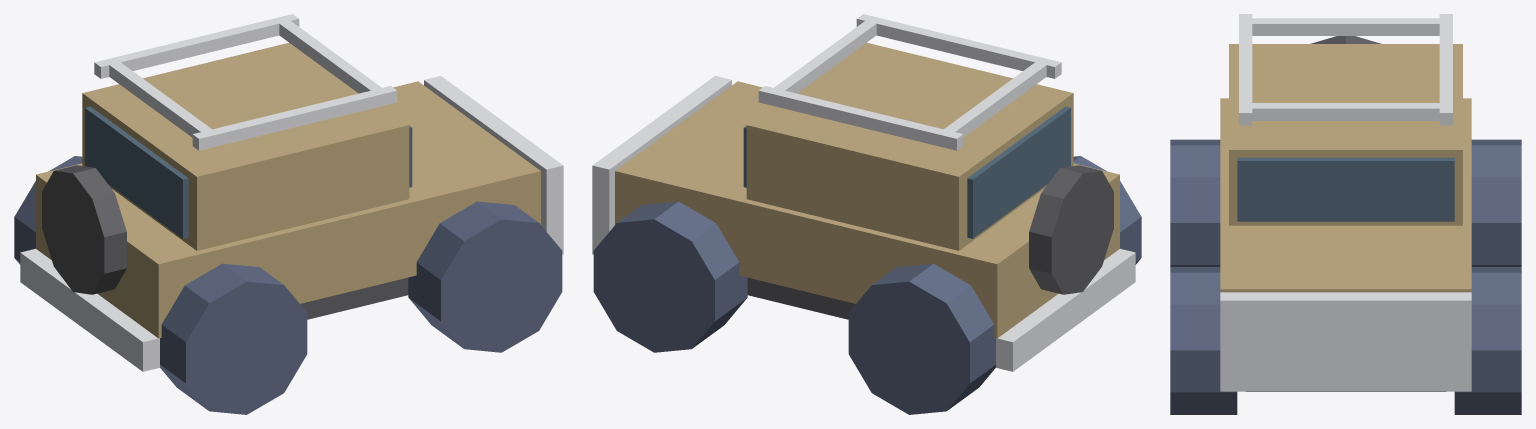
File: car_jeep.glb
3 views of the same model, side by side, from view 1: azimuth 30°, elevation 25°; view 2: azimuth 150°, elevation 25°; view 3: azimuth 270°, elevation 25° (orthographic). The views are drawn at different scales.
Size of the model in its own units: 0.303 by 0.172 by 0.21.
